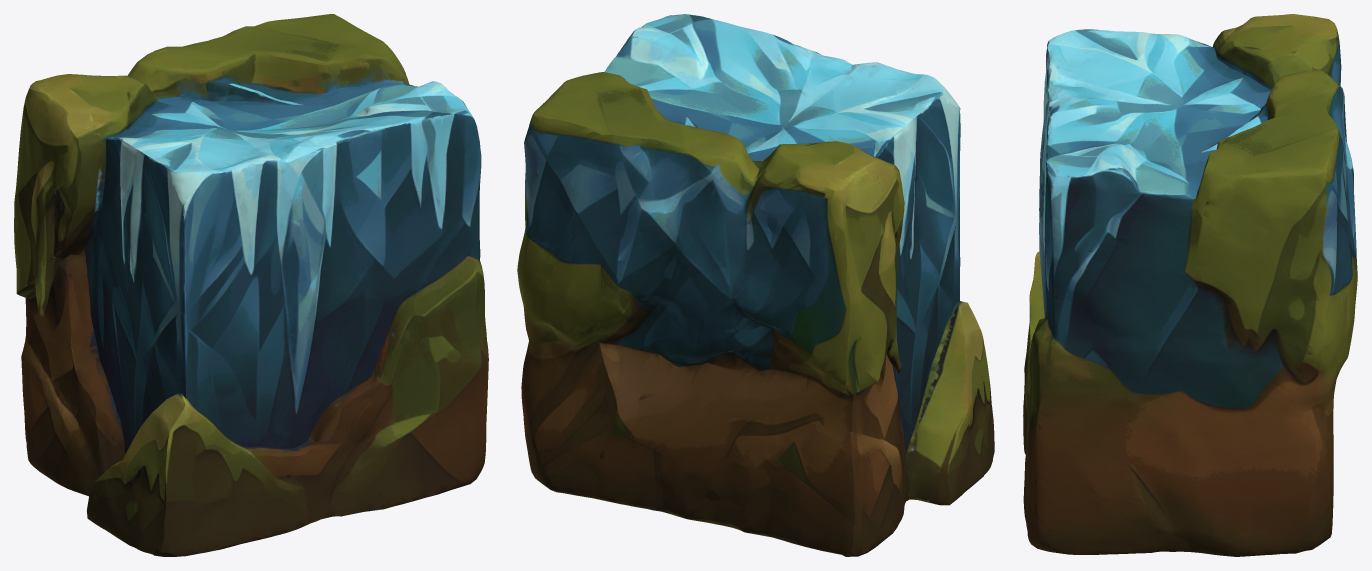
File: item_eternal_ice.glb
3 views of the same model, side by side, from view 1: azimuth 30°, elevation 25°; view 2: azimuth 150°, elevation 25°; view 3: azimuth 270°, elevation 25° (orthographic). The views are drawn at different scales.
Visible parts, largest first — view 1: item_eternal_ice; view 2: item_eternal_ice; view 3: item_eternal_ice.
Boxes of the visible parts, x1,y1,x2,y2 form: item_eternal_ice: (14,14,488,556); item_eternal_ice: (517,14,994,556); item_eternal_ice: (1023,14,1357,556).
Bounding box in the file's own units: 0.1474 × 0.15 × 0.1186.
1 material, 1 textured.
